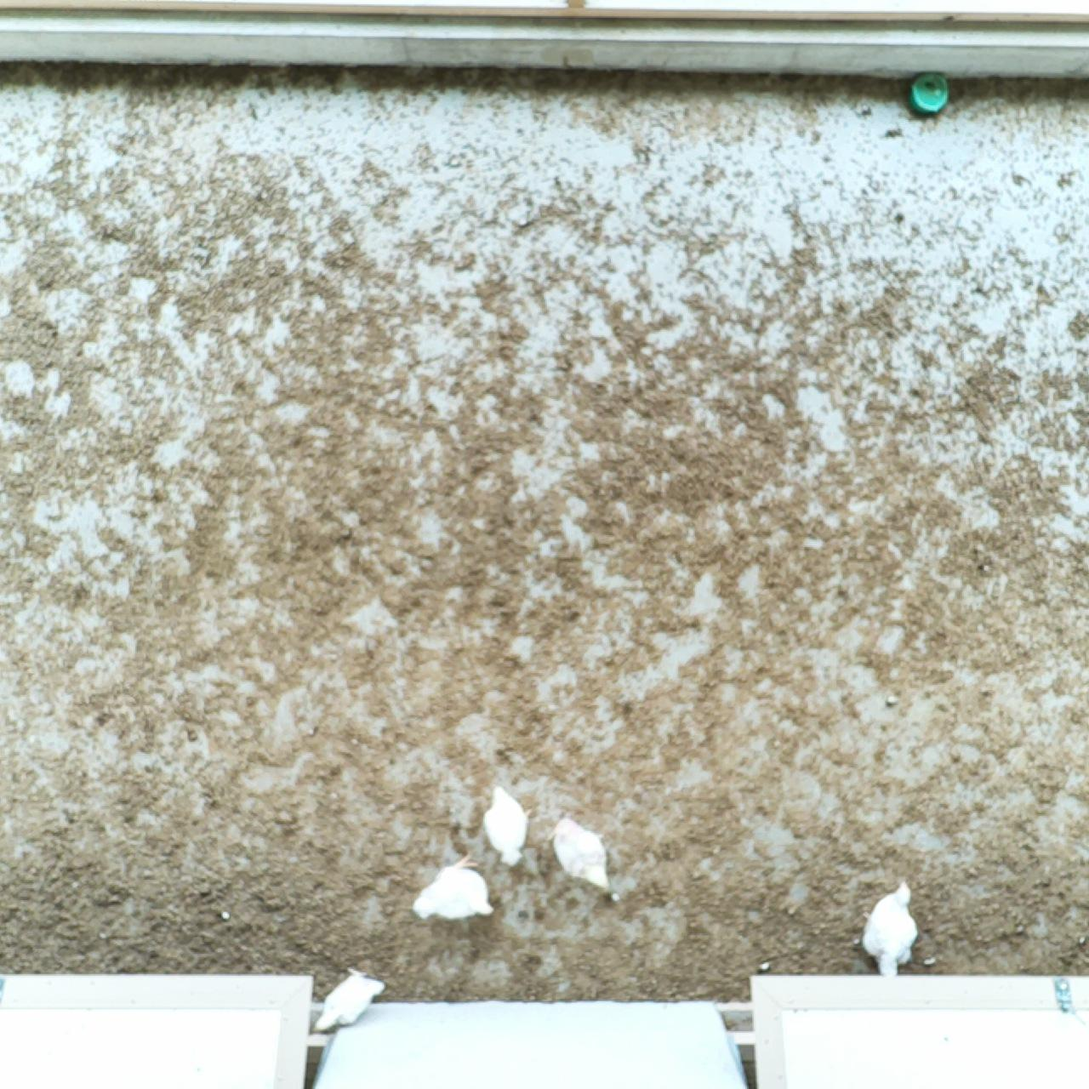chicken: (854, 876, 924, 977), (308, 961, 390, 1041), (409, 851, 498, 924), (545, 812, 617, 895), (477, 784, 536, 870)
